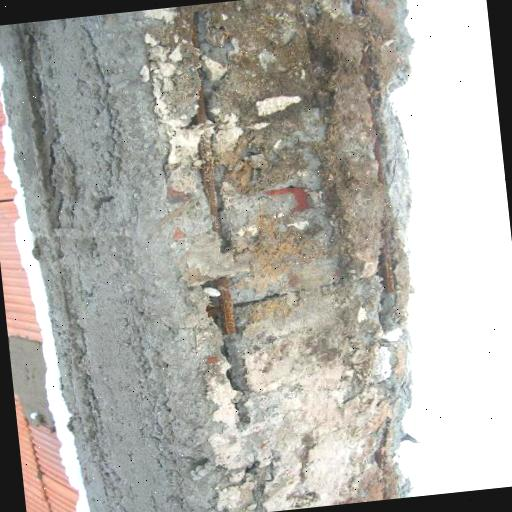spalling: (139, 0, 406, 512)
